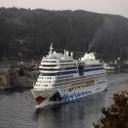cruises: (32, 42, 112, 109)
